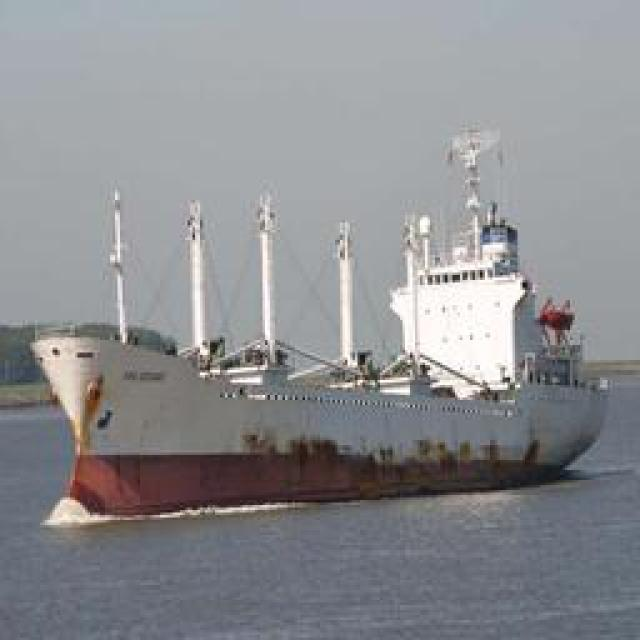ship2: (30, 131, 611, 529)
